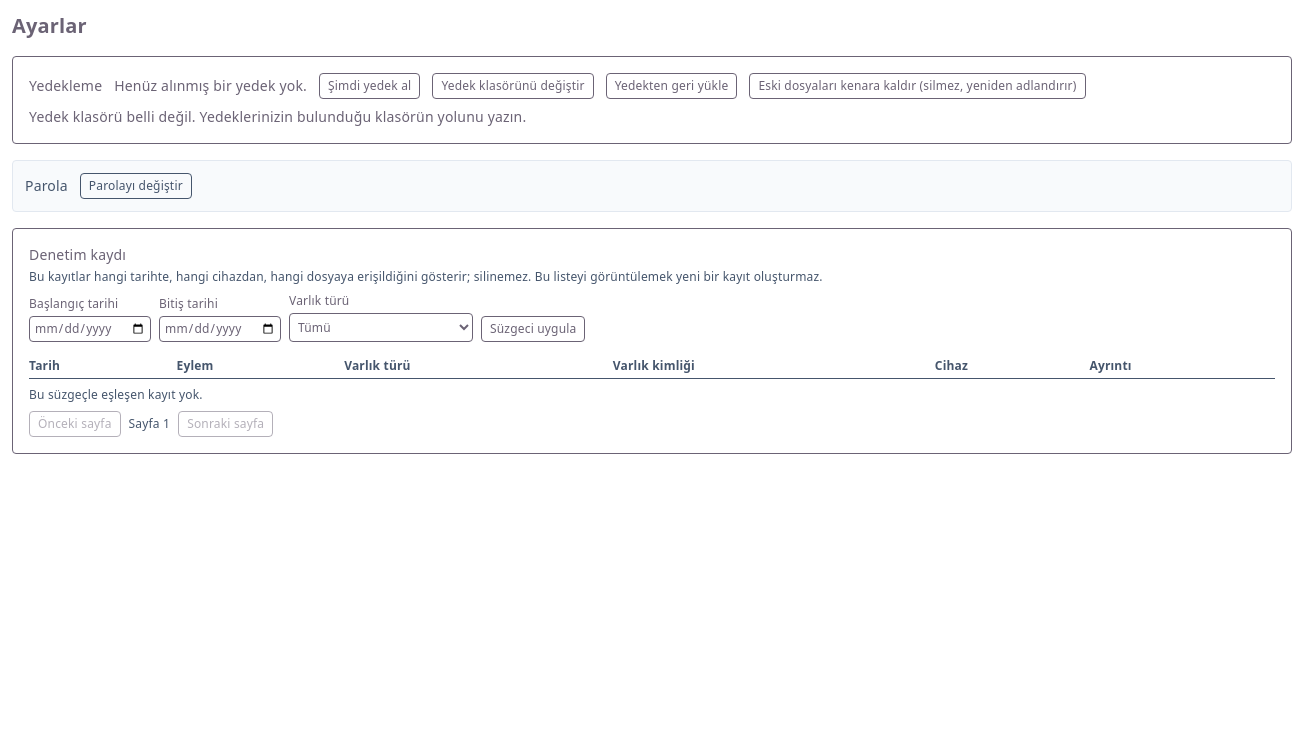
Test: AyarlarSekmesi — davranış (AnaEkran.test.tsx içinden taşındı) › klasor secilmemisse uyari cikar; klasor secilince yedek HEMEN alinir
Check: the message shows "klasörü belli değil", box [29, 107, 526, 126]
Step 1. Click the button "Yedek klasörünü değiştir" → click(513, 86), box [432, 73, 594, 99]
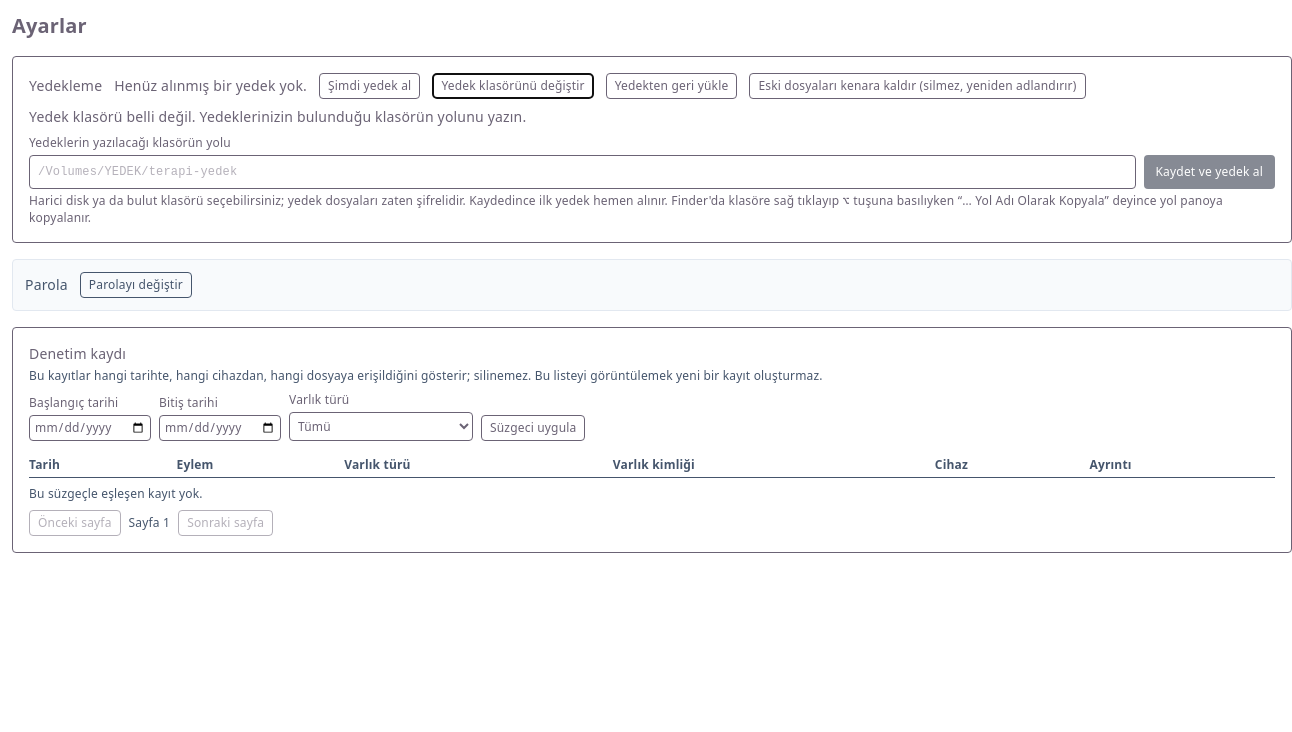
Step 2. Type "/Volumes/USB/yedek" into the field labelled "Yedeklerin yazılacağı klasörün yolu" → (582, 172), box [29, 155, 1136, 189]
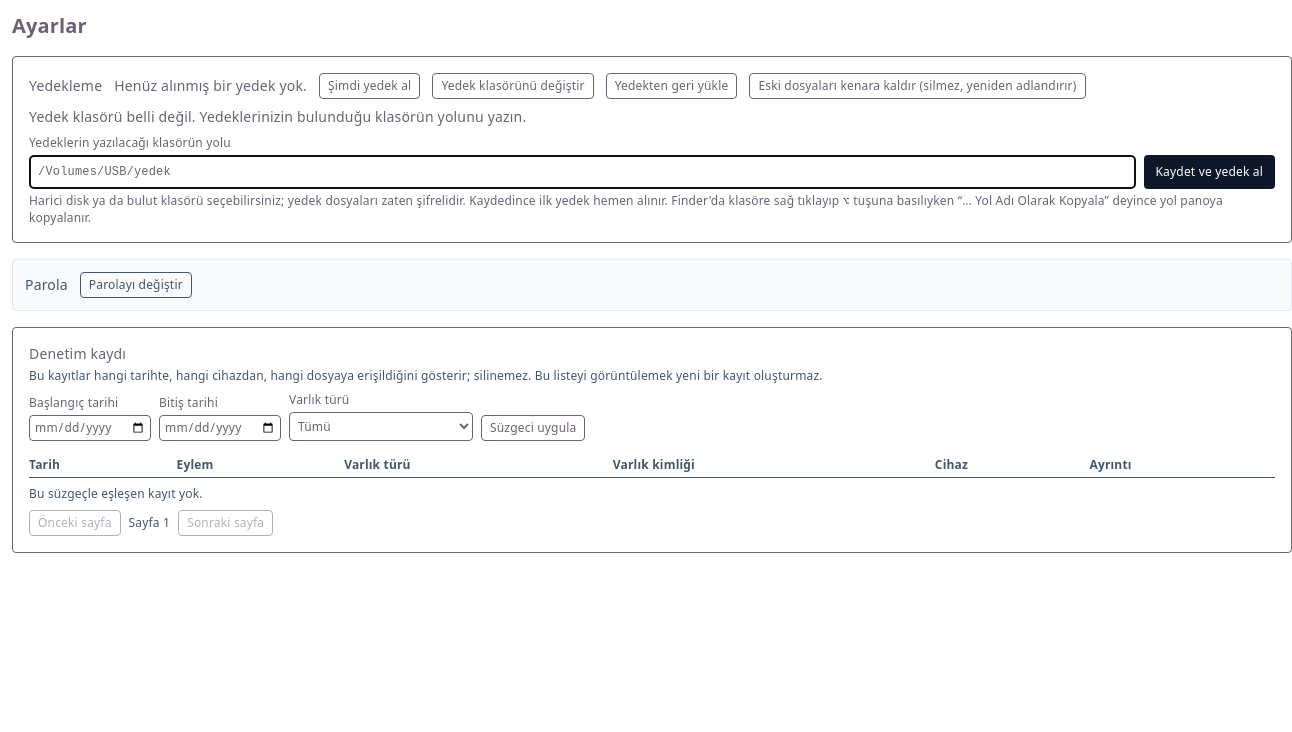
Step 3. Click the button "Kaydet ve yedek al" → click(1209, 172), box [1144, 155, 1275, 189]
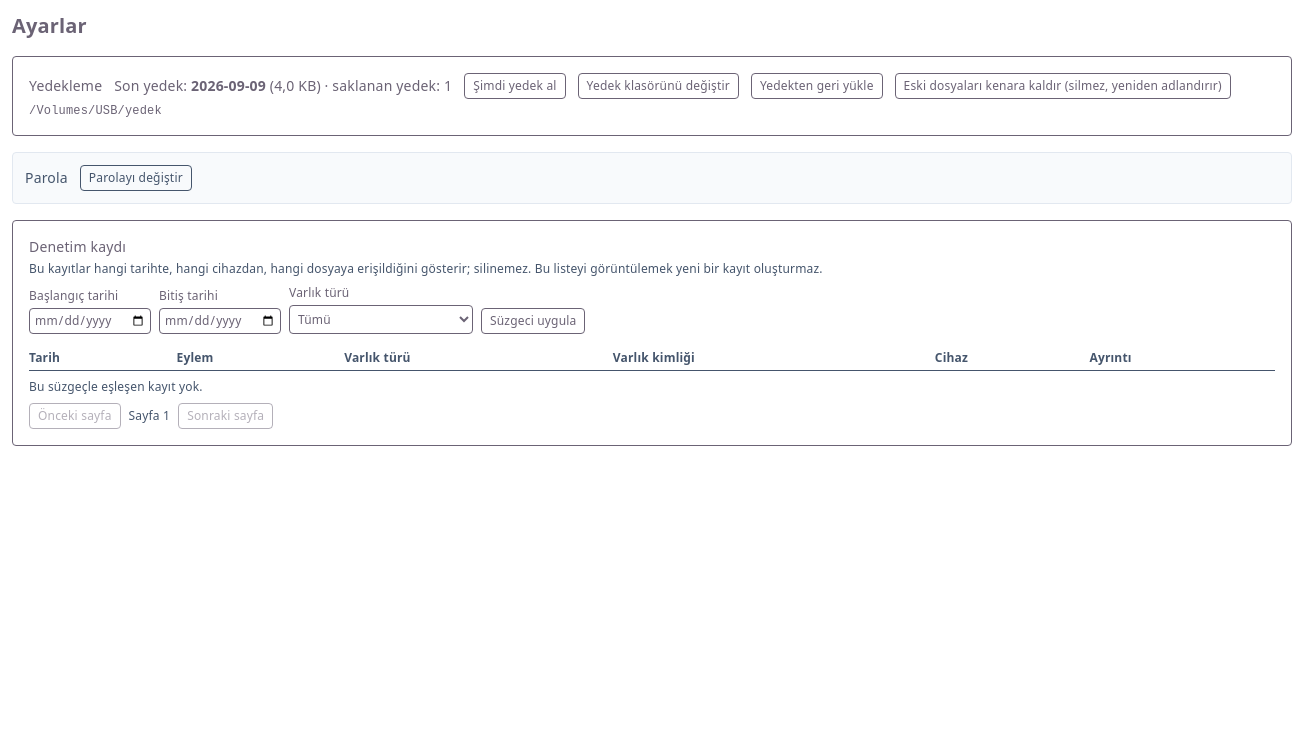
Check: the message "Yedek klasörü belli değil. Yedeklerinizin bulunduğu klasörün yolunu yazın." is gone
Check: the element "Yedekleme" shows "/Volumes/USB/yedek", box [29, 104, 162, 118]
